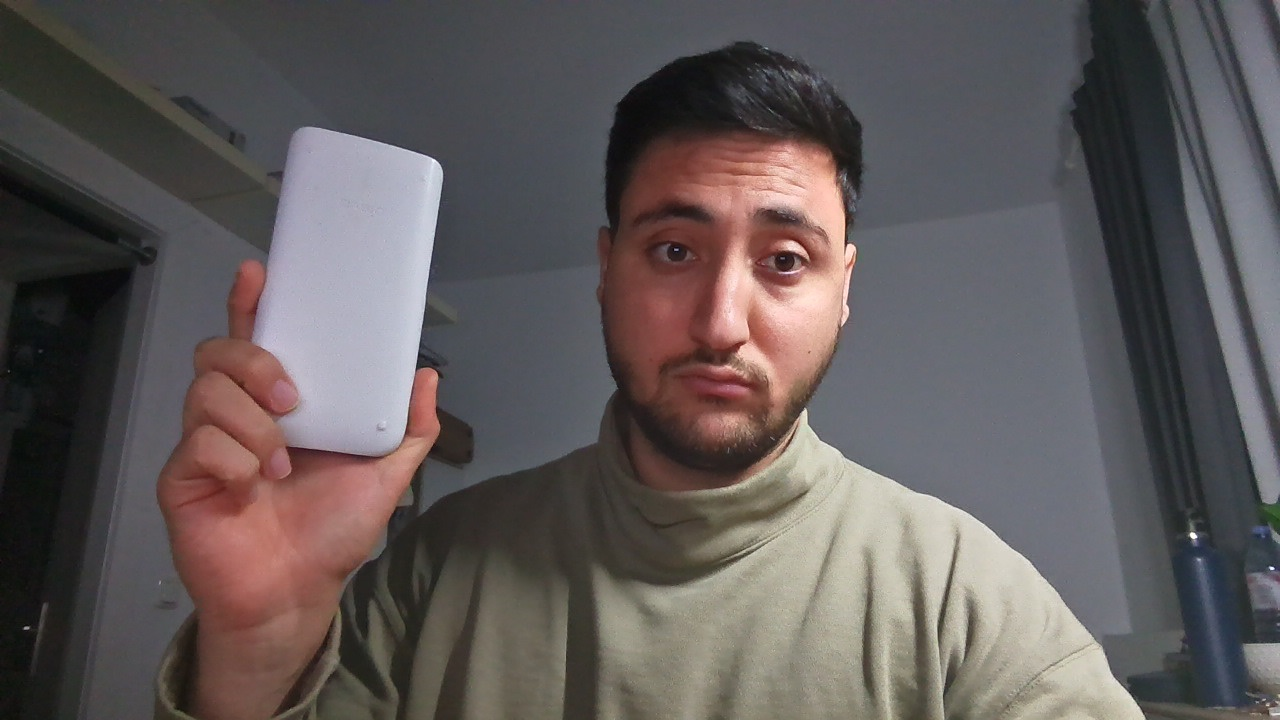Taschenrechner: (218, 93, 491, 496)
Wasserflasche: (1137, 484, 1254, 709)
me: (582, 33, 876, 488)
